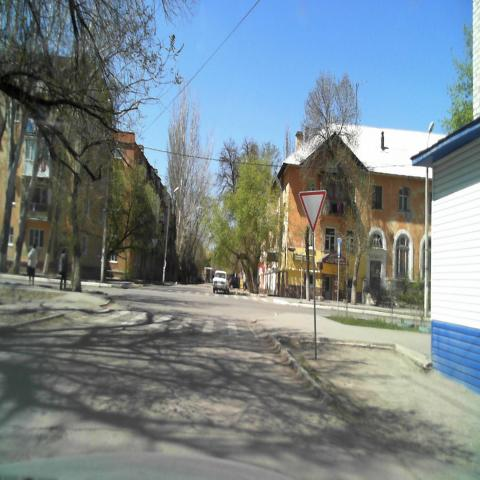2_4: (299, 188, 327, 232)
5_19_1: (336, 236, 342, 258)
